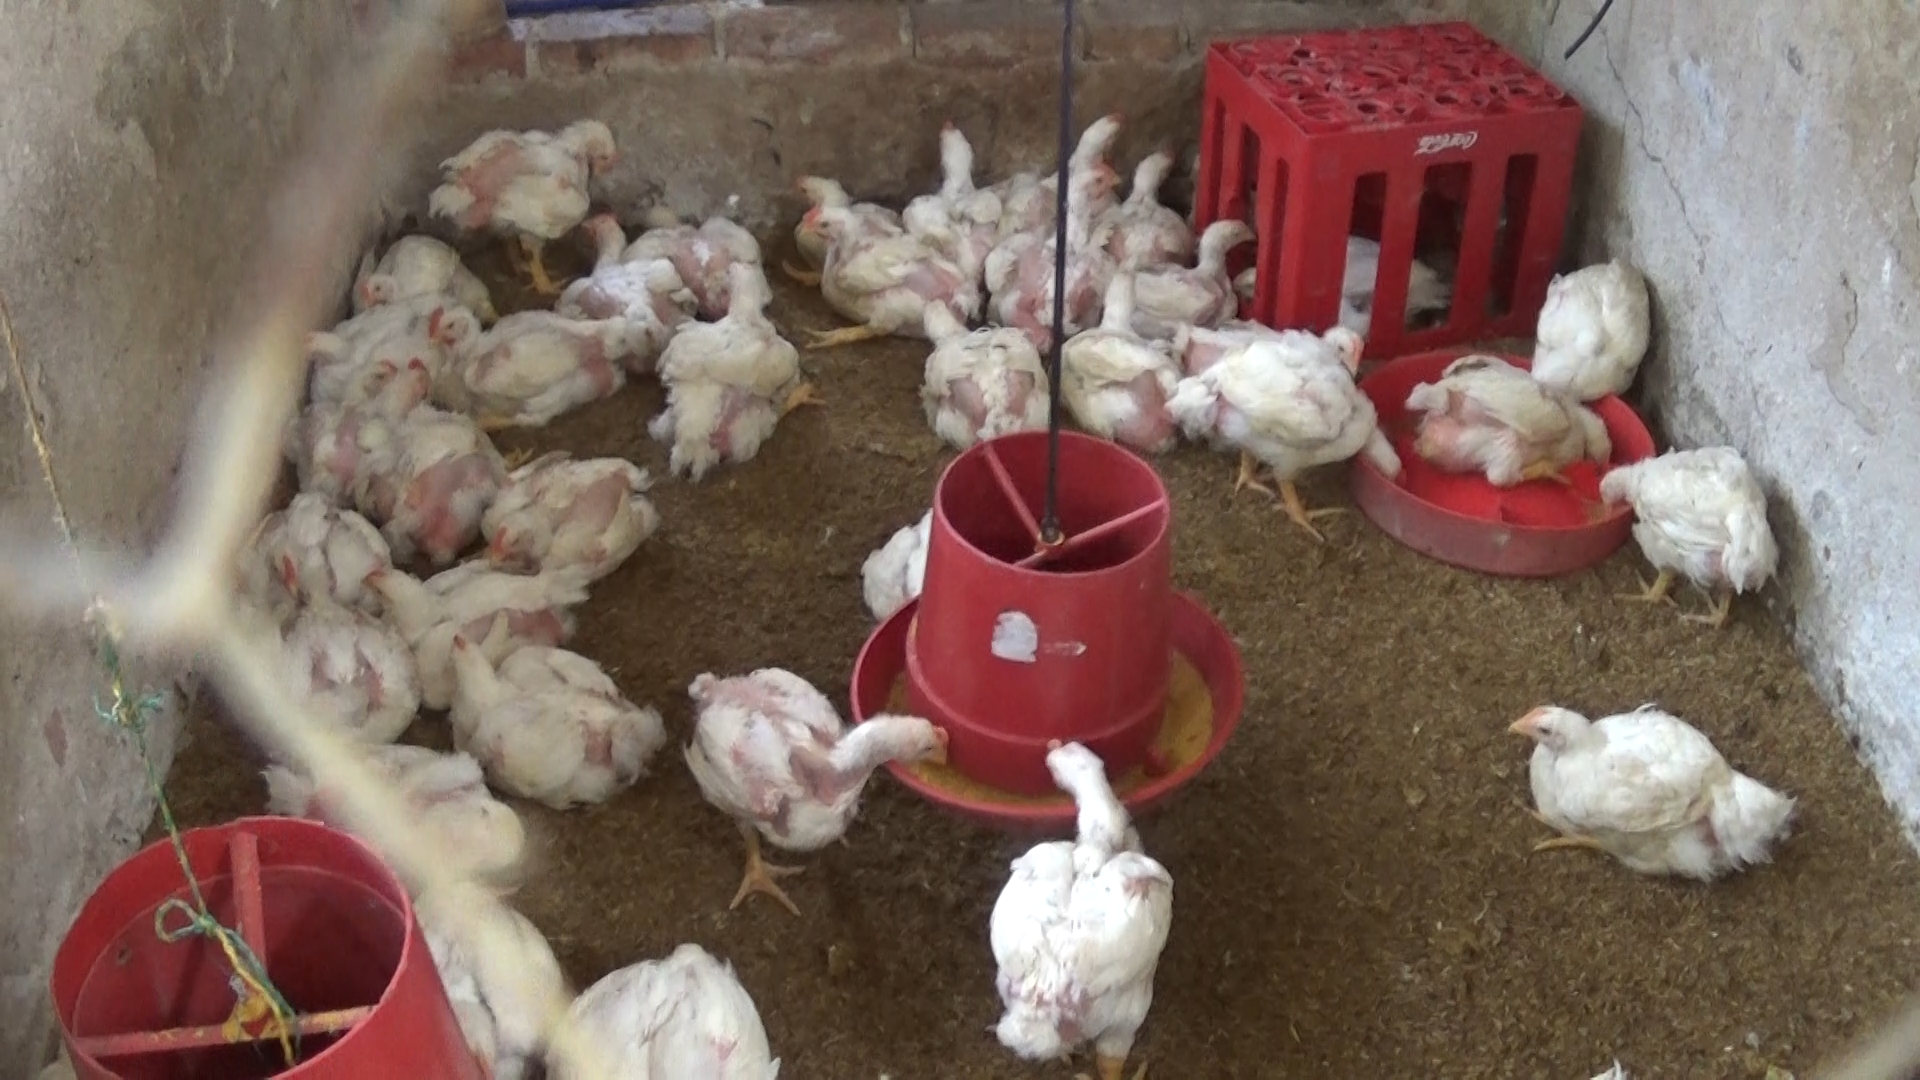Pollos: (680, 649, 971, 916), (990, 735, 1166, 1080), (1495, 688, 1800, 882), (436, 622, 684, 812), (1187, 334, 1404, 526), (413, 92, 630, 276), (322, 357, 514, 547), (655, 257, 814, 487), (1594, 438, 1778, 636), (539, 932, 779, 1080), (356, 556, 585, 696), (465, 443, 666, 593), (1414, 352, 1594, 495), (423, 293, 630, 415), (806, 204, 978, 349), (262, 596, 429, 741), (902, 286, 1042, 447), (1085, 216, 1269, 332), (574, 198, 746, 319), (1058, 262, 1182, 431), (1531, 248, 1660, 406), (1001, 164, 1151, 295), (236, 496, 396, 617), (313, 287, 442, 410), (347, 214, 498, 316), (906, 109, 1006, 262), (1029, 94, 1137, 196), (779, 173, 899, 262), (1117, 135, 1196, 241)
